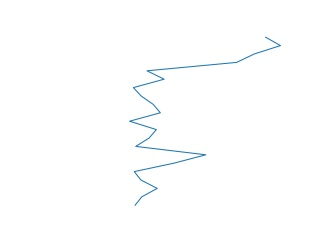crevasseRiverChannelBar: (125, 34, 288, 210)
